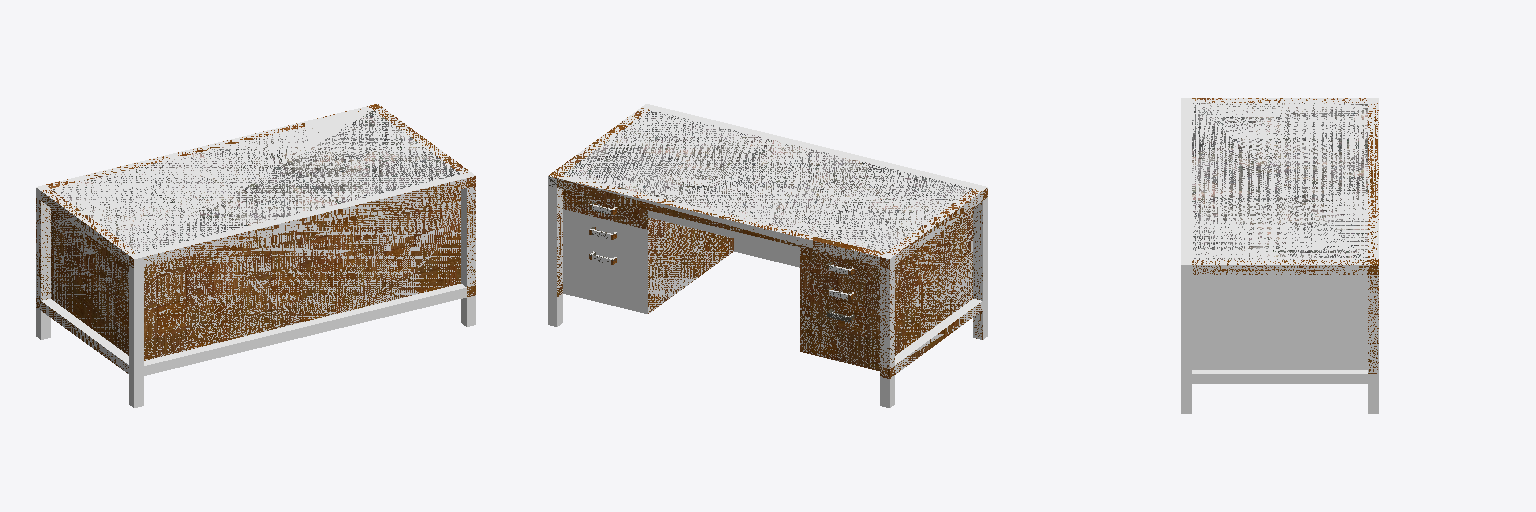
3 views of the same model, side by side, from view 1: azimuth 30°, elevation 25°; view 2: azimuth 150°, elevation 25°; view 3: azimuth 270°, elevation 25° (orthographic).
Visible parts, largest first — view 1: mesh1_mesh1-geometry; view 2: mesh1_mesh1-geometry; view 3: mesh1_mesh1-geometry.
Part boxes in pixels (left/top/right/bottom): mesh1_mesh1-geometry: left=36, top=104, right=475, bottom=407; mesh1_mesh1-geometry: left=548, top=104, right=987, bottom=407; mesh1_mesh1-geometry: left=1181, top=98, right=1378, bottom=413.
Size of the model in its own units: 0.8381 by 0.3492 by 0.4191.
14 materials, 2 textured.